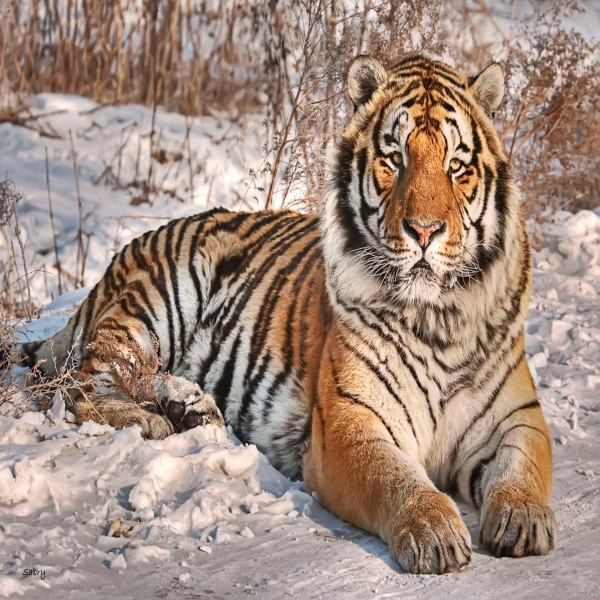Tiger: (1, 47, 559, 577)
